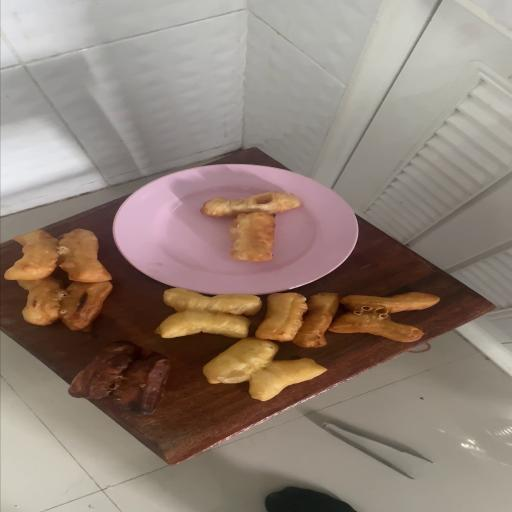street_burnt_defect: (58, 229, 112, 330), (115, 366, 148, 391)
street_golden_good: (155, 288, 326, 401), (229, 212, 274, 262)
